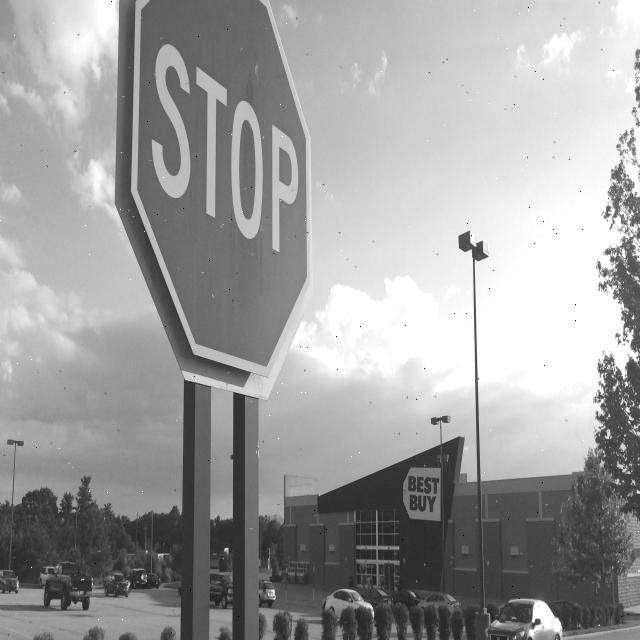Stop-sign: (110, 0, 322, 404)
